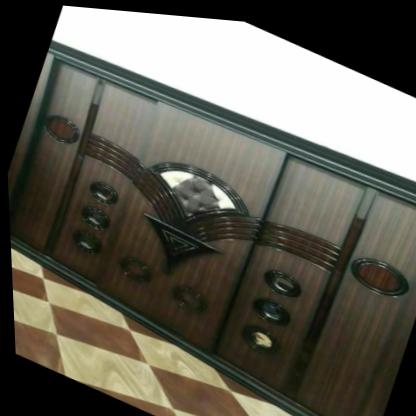Ceramic floor: (8, 240, 298, 416)
Closet: (7, 40, 416, 416)
